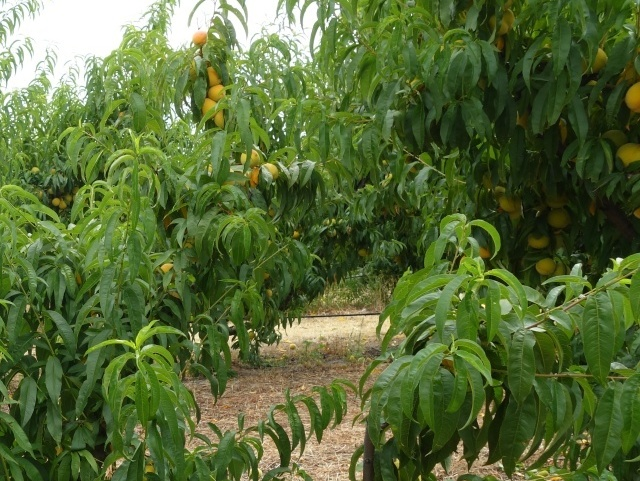peach: (488, 1, 521, 39), (612, 135, 639, 172), (606, 127, 634, 158), (544, 203, 573, 232), (497, 187, 523, 218), (207, 77, 232, 106), (524, 228, 553, 253), (623, 78, 639, 120), (533, 254, 558, 280), (201, 62, 225, 89), (239, 143, 263, 170), (258, 159, 282, 185), (197, 94, 221, 119), (189, 27, 212, 52), (212, 106, 234, 132)
